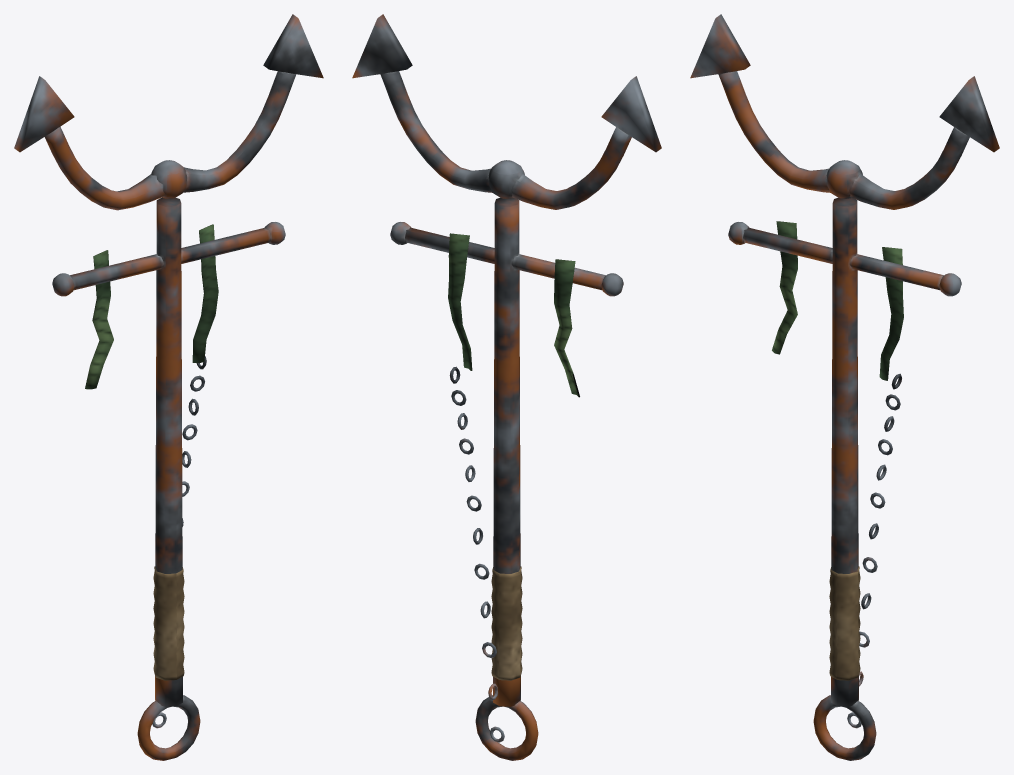
File: DrownedAnchor.fbx
The picture shows the model from 3 angles, left to right: view 1: azimuth 30°, elevation 25°; view 2: azimuth 150°, elevation 25°; view 3: azimuth 330°, elevation 25°; orthographic projection.
Visible parts, largest first — view 1: DrownedAnchor; view 2: DrownedAnchor; view 3: DrownedAnchor.
Part boxes in pixels (x1,y1,x2,y2): DrownedAnchor: (14, 14, 323, 760); DrownedAnchor: (352, 14, 661, 760); DrownedAnchor: (690, 14, 999, 760).
Bounding box in the file's own units: 0.72 × 1.61 × 0.0961.
